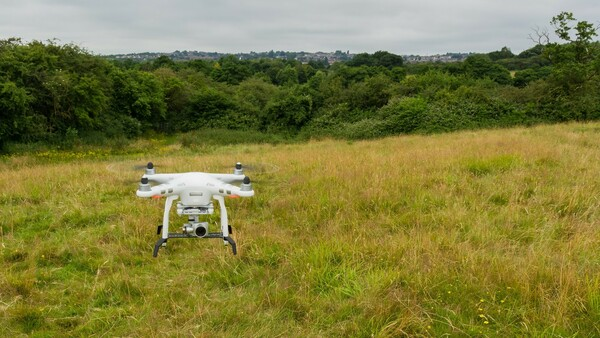drone: (125, 160, 267, 261)
